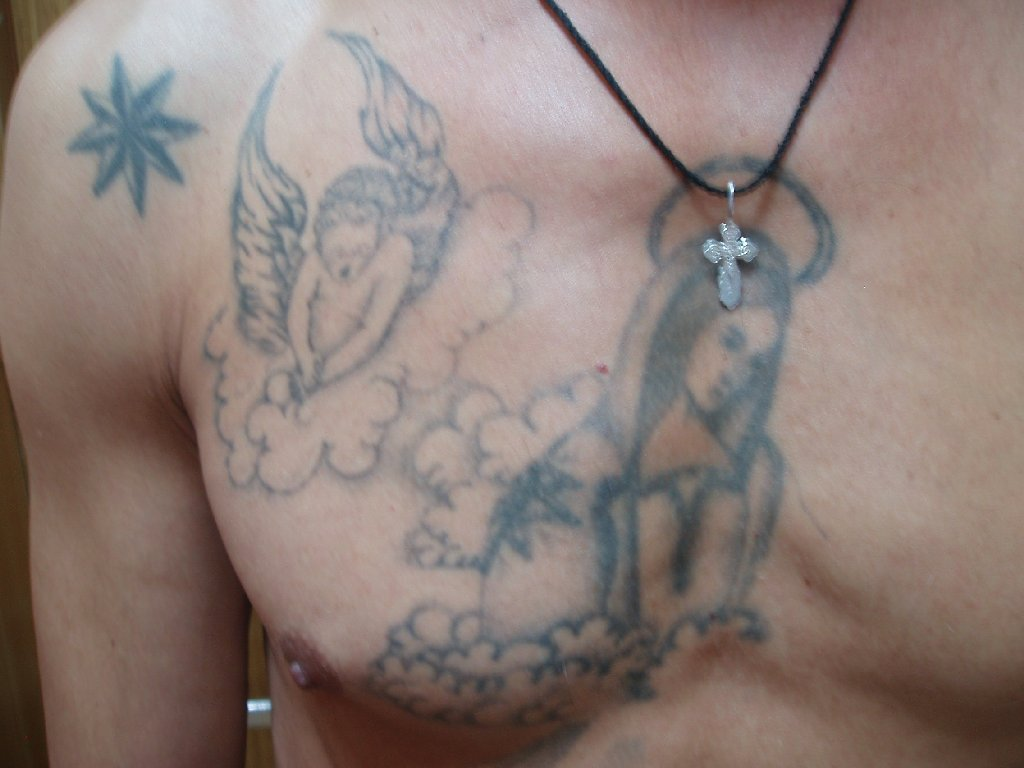tatu1_angel: (211, 23, 495, 438)
tatu2_bogorodica: (477, 173, 907, 710)
tatu4_zvezda: (51, 52, 219, 227)
